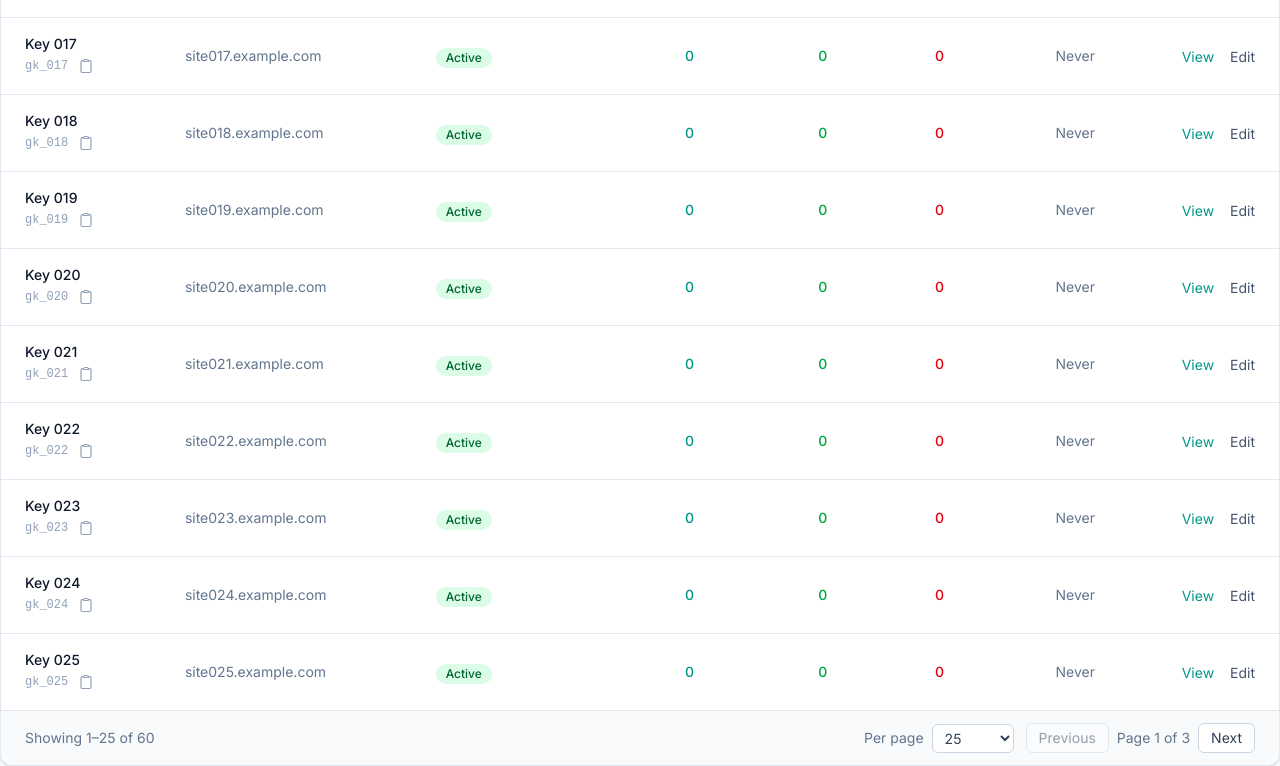
ApiKeysView › shows the remainder on the last page and disables Next
This screenshot has width=1280, height=766.
(page scrolled)
What coordinates should you click on to do the following:
click the button with aria-label "Next page"
I would click on:
 (1227, 738)
Its box is x1=1198 y1=723 x2=1255 y2=753.
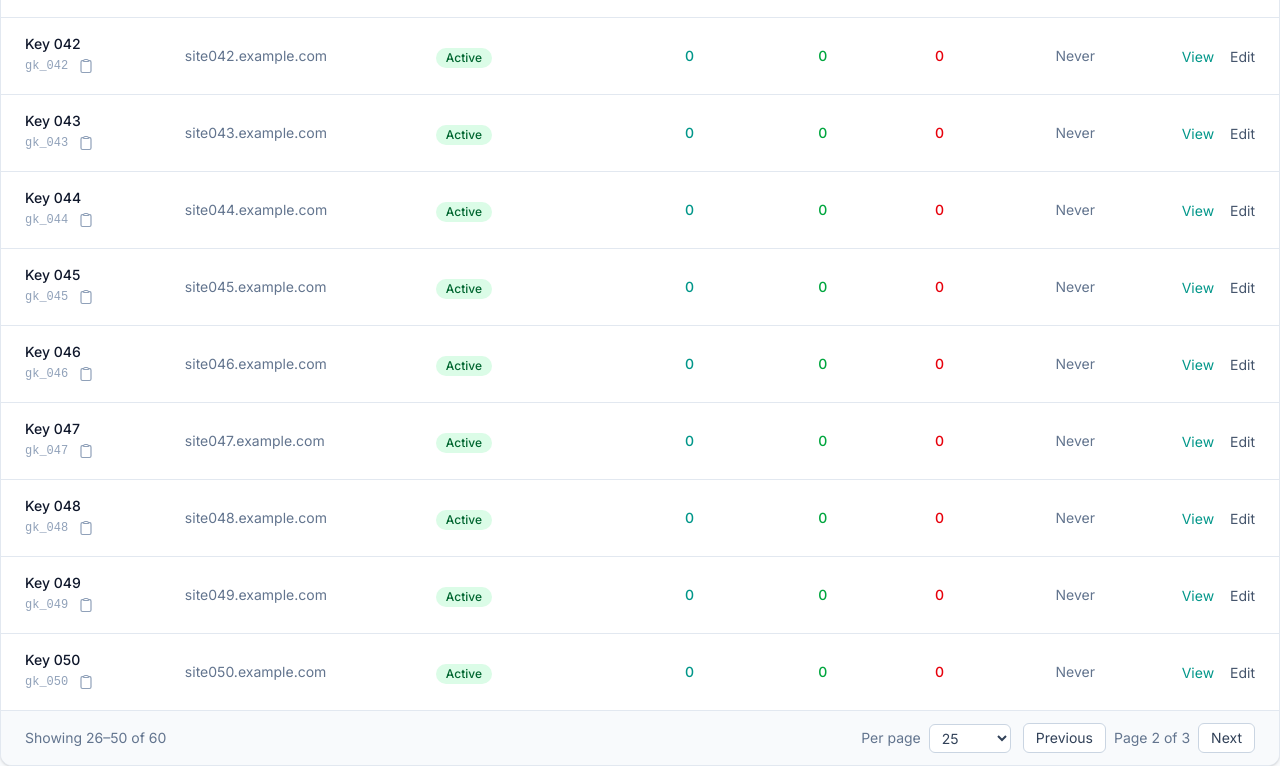
What coordinates should you click on to do the following:
click the button with aria-label "Next page"
I would click on:
 (1227, 738)
Its box is x1=1198 y1=723 x2=1255 y2=753.
(page scrolled)
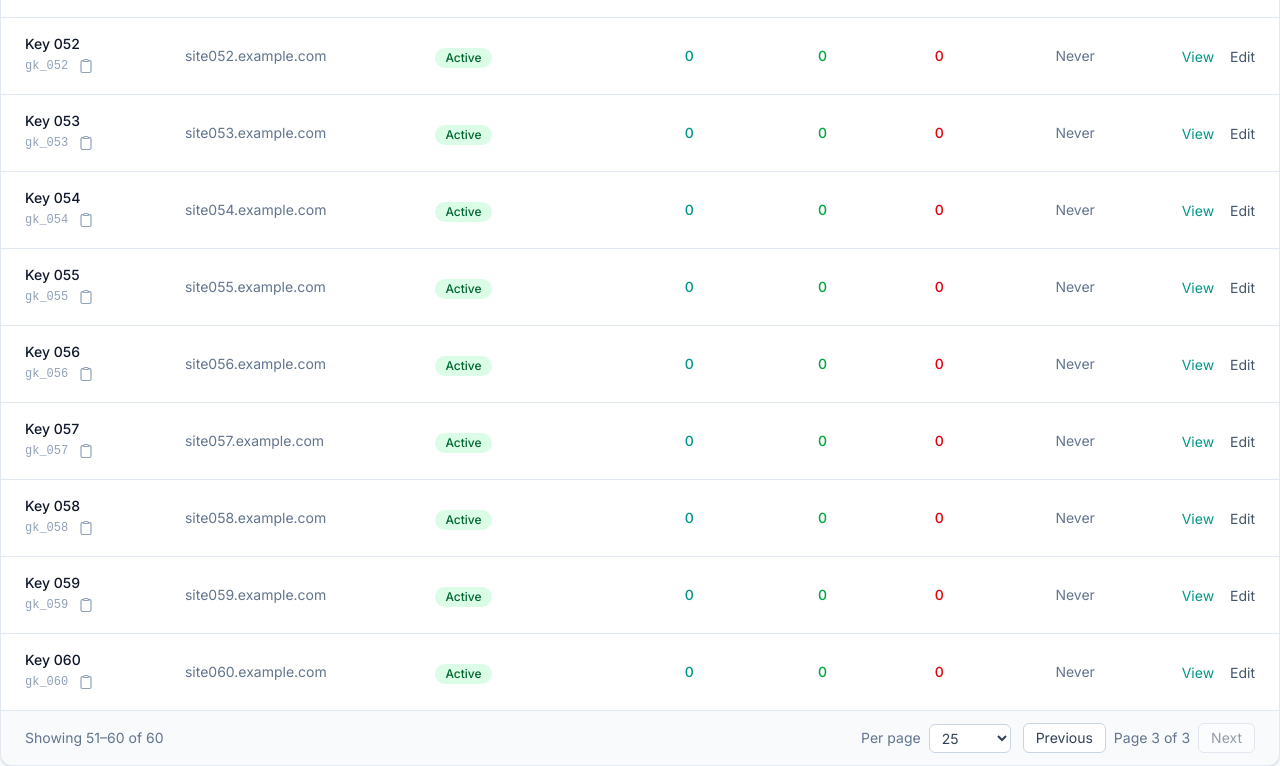
Check: the text "Showing 51–60 of 60" is shown, box x1=25 y1=728 x2=164 y2=748
Check: the button with aria-label "Next page" is disabled, box x1=1198 y1=723 x2=1255 y2=753
